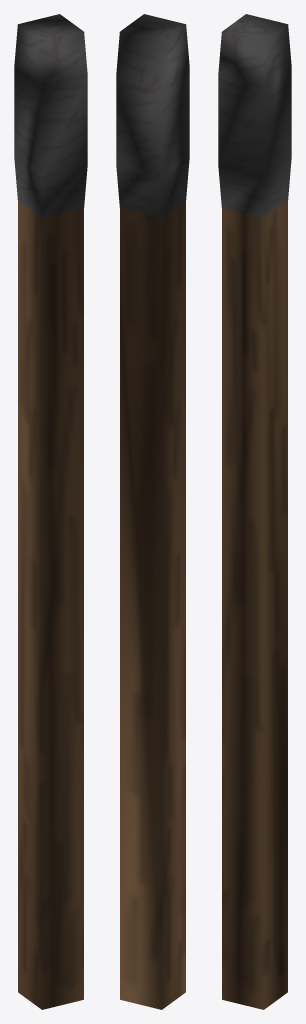
Rendered from torch.glb.
The picture shows the model from 3 angles, left to right: view 1: azimuth 30°, elevation 25°; view 2: azimuth 150°, elevation 25°; view 3: azimuth 330°, elevation 25°; orthographic projection.
Visible parts, largest first — view 1: Cube; view 2: Cube; view 3: Cube.
Boxes of the visible parts, x1,y1,x2,y2 form: Cube: [14, 14, 87, 1009]; Cube: [116, 14, 189, 1009]; Cube: [218, 14, 291, 1009].
Size of the model in its own units: 0.111 by 2.2 by 0.111.
1 material, 1 textured.
